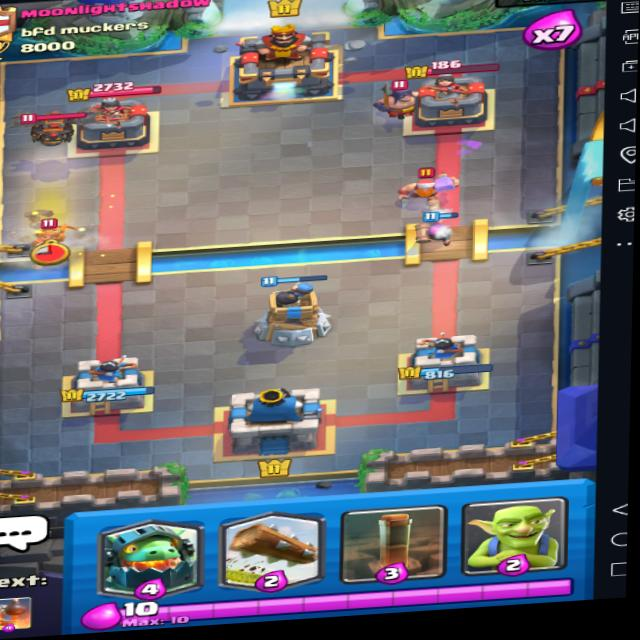executioner: (361, 78, 431, 124)
lava-hound: (19, 105, 85, 151)
little-prince: (24, 212, 84, 261)
lumberjack: (389, 164, 463, 202)
